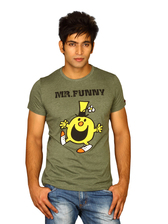clothoes: (26, 62, 132, 191)
